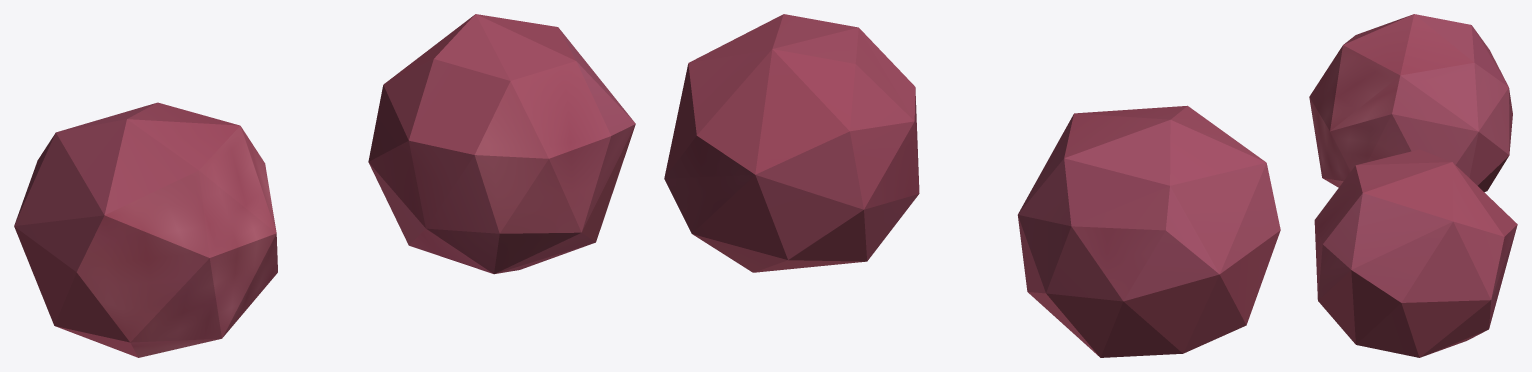
The model's file is NPCojoscerradospizza.obj.
3 views of the same model, side by side, from view 1: azimuth 30°, elevation 25°; view 2: azimuth 150°, elevation 25°; view 3: azimuth 270°, elevation 25° (orthographic). The views are drawn at different scales.
Parts seen in each view (by area): view 1: Cubo.003; view 2: Cubo.003; view 3: Cubo.003.
Part boxes in pixels (box(x1,y1,x2,y2)): Cubo.003: box(14, 14, 635, 357); Cubo.003: box(664, 14, 1280, 357); Cubo.003: box(1309, 14, 1517, 357).
Size of the model in its own units: 0.6332 by 0.2498 by 0.2513.
Materials: 1 (1 with a texture image).
